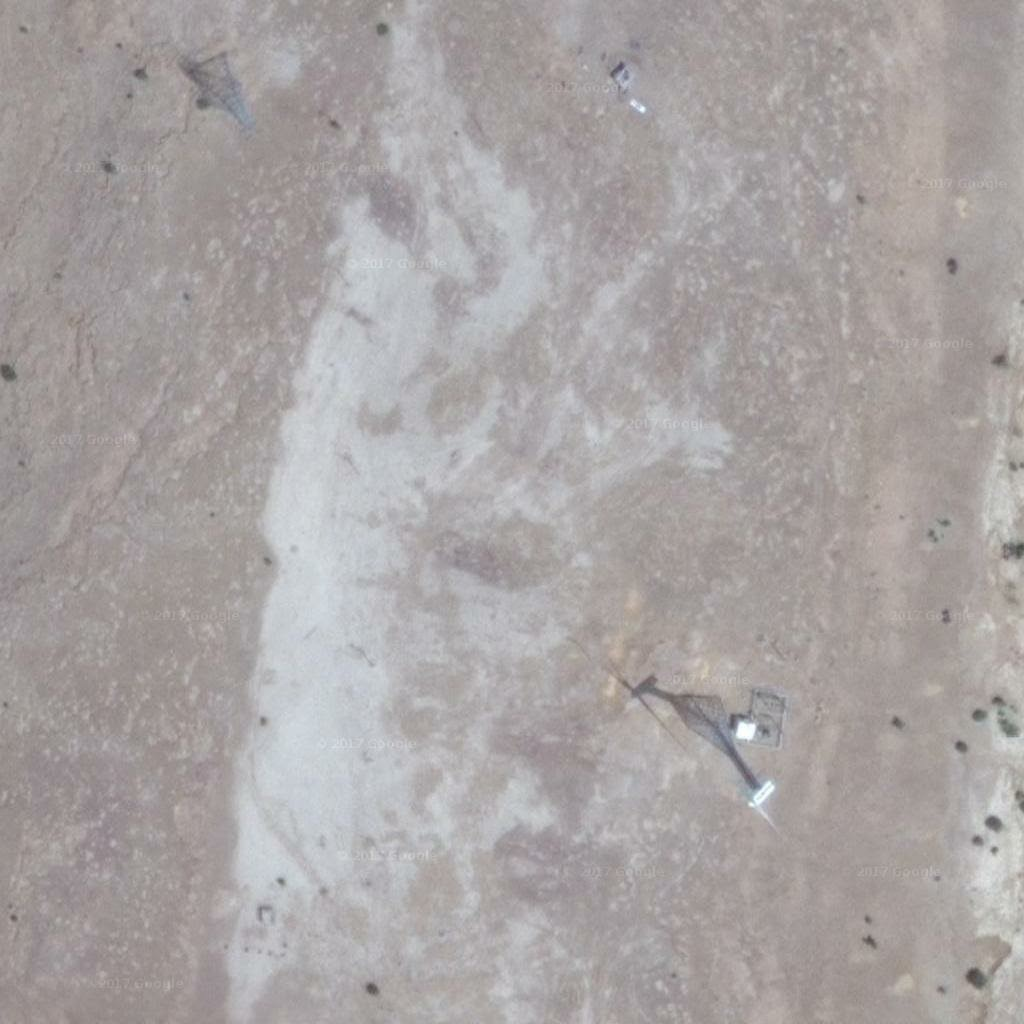Windmill: (603, 666, 751, 741)
